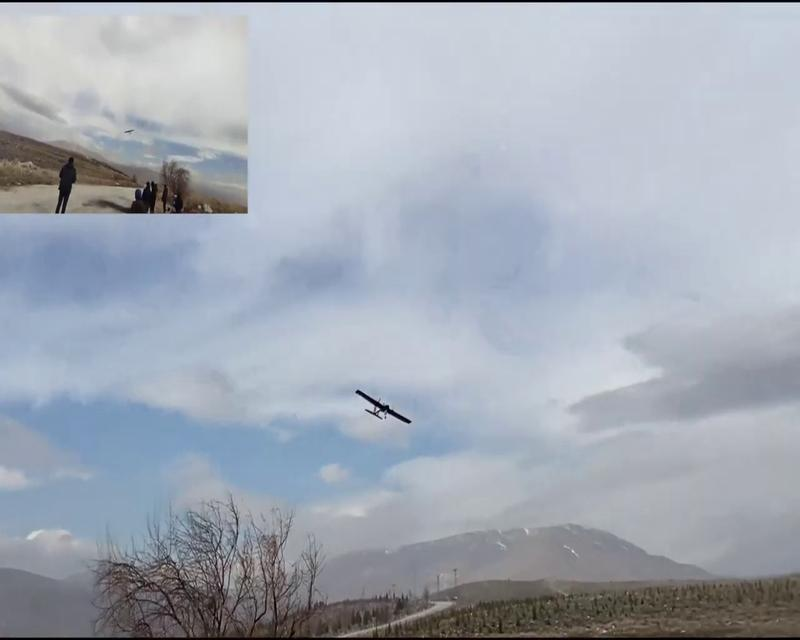UAV: (354, 387, 412, 424)
